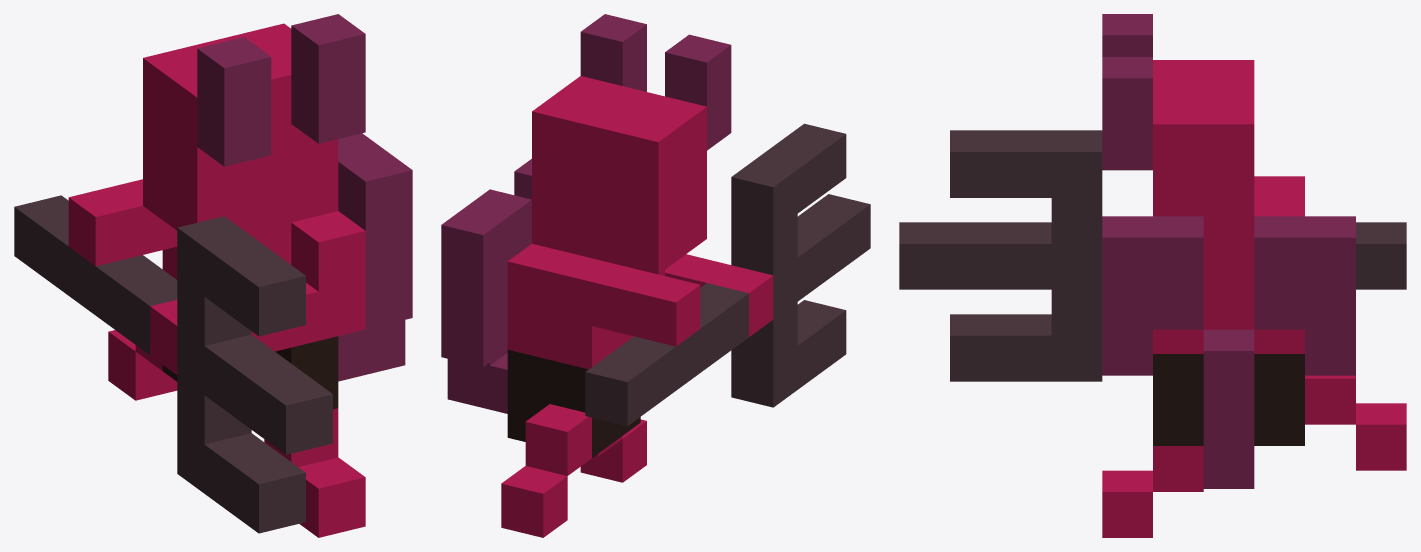
The model's file is imp_action_1.obj.
3 renders of one model, left to right at view 1: azimuth 30°, elevation 25°; view 2: azimuth 150°, elevation 25°; view 3: azimuth 270°, elevation 25°, orthographic. The views are drawn at different scales.
Bounding box in the file's own units: 0.6 × 1 × 1.
1 material, 1 textured.
